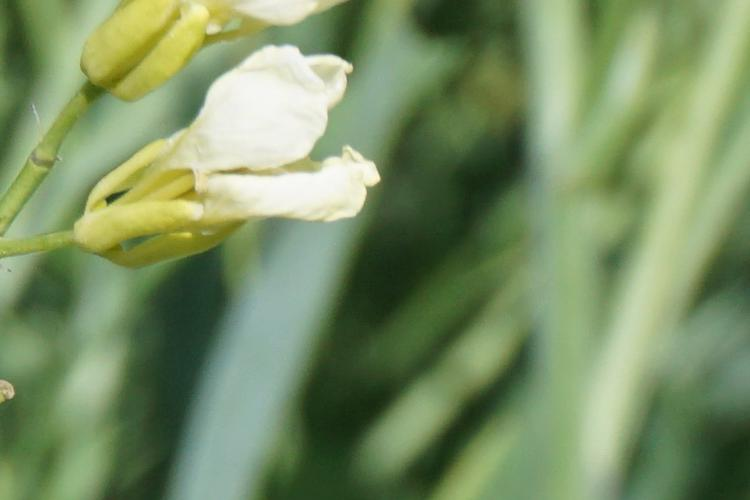white: (84, 68, 349, 264), (91, 5, 362, 68)
